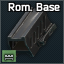SIG Sauer ROMEO sights mount: (0, 0, 64, 64)
